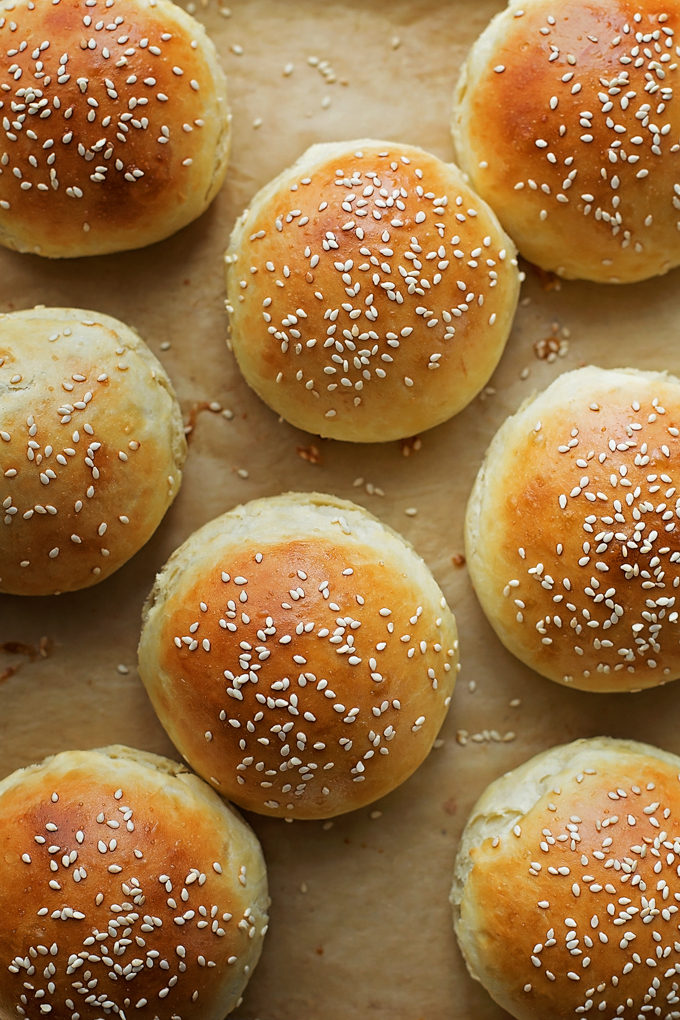hamburger_buns: (135, 486, 460, 827), (221, 128, 503, 454), (454, 367, 680, 702), (452, 731, 680, 1013)
